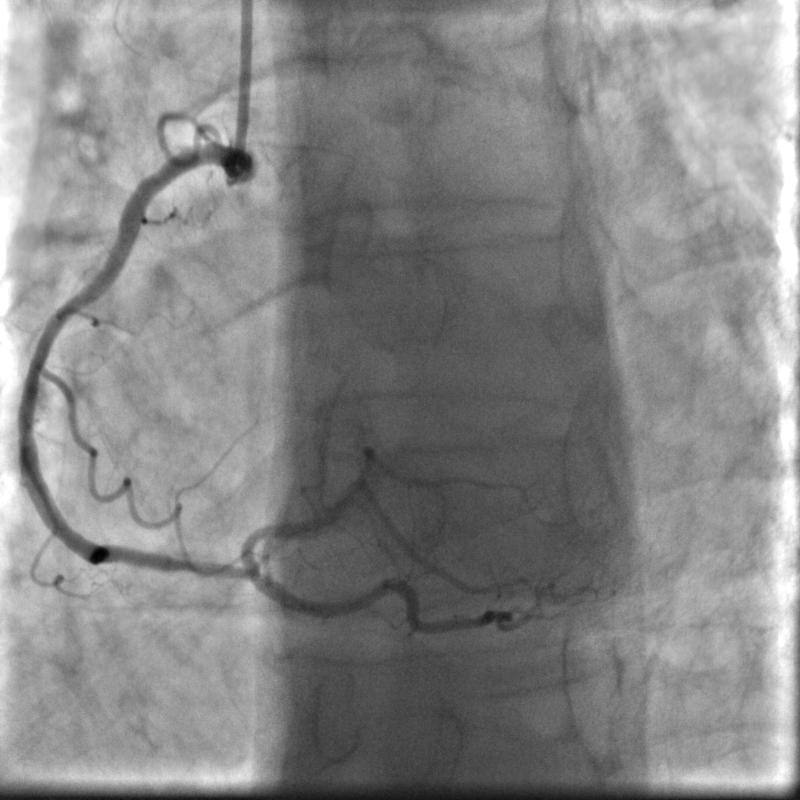Stenosis: (135, 538, 256, 597)
